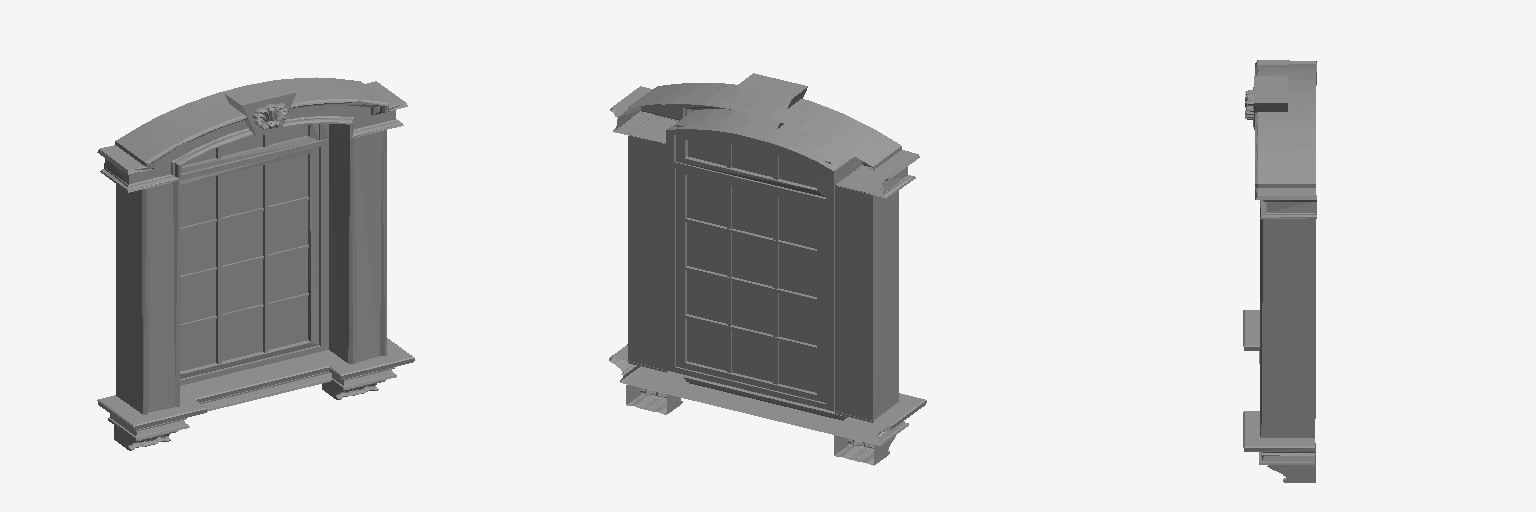
File: window1.obj
3 views of the same model, side by side, from view 1: azimuth 30°, elevation 25°; view 2: azimuth 150°, elevation 25°; view 3: azimuth 270°, elevation 25° (orthographic).
Visible parts, largest first — view 1: window1:window; view 2: window1:window; view 3: window1:window.
Boxes of the visible parts, box(x1,y1,x2,y2) form: window1:window: box(97, 77, 414, 450); window1:window: box(609, 73, 926, 465); window1:window: box(1243, 60, 1316, 482).
Bounding box in the file's own units: 1.4 × 1.59 × 0.3156.